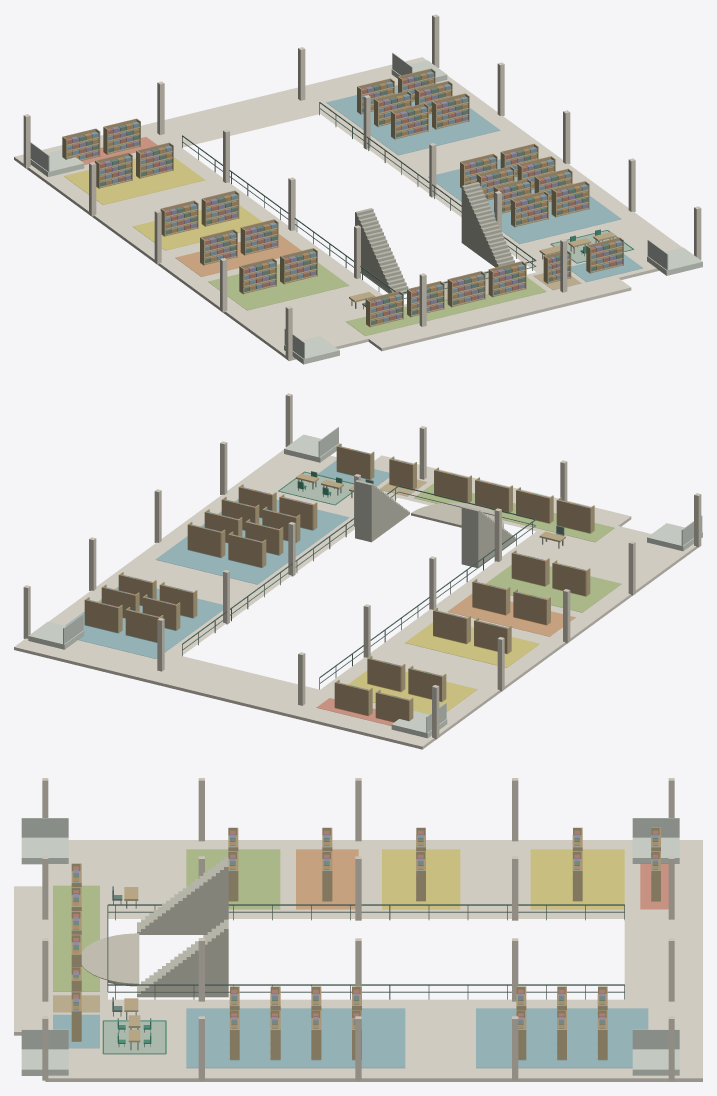
The model's file is 图书馆_2楼_试点常态.glb.
3 views of the same model, one above another, from view 1: azimuth 30°, elevation 25°; view 2: azimuth 150°, elevation 25°; view 3: azimuth 270°, elevation 25° (orthographic). The views are drawn at different scales.
Parts seen in each view (by area): view 1: guide_outline_floor_slab, guide_function_tint (×8), corner_service_room (×3); view 2: guide_outline_floor_slab, rack_back (×29), guide_function_tint (×8), corner_service_room (×4), central_stair_tread (×2), photo_guided_curved_landing, proposed_candidate_zone; view 3: guide_outline_floor_slab, guide_function_tint (×10), corner_service_room (×4), service_partition (×4), photo_guided_curved_landing, atrium_rail_top (×2), atrium_rail_lower (×2), proposed_candidate_zone.
Part boxes in pixels (left/top/right/bottom): guide_outline_floor_slab: left=14, top=57, right=682, bottom=360; guide_function_tint (×8): left=64, top=83, right=642, bottom=335; corner_service_room (×3): left=30, top=149, right=702, bottom=364; guide_outline_floor_slab: left=14, top=449, right=697, bottom=749; rack_back (×29): left=85, top=446, right=589, bottom=722; guide_function_tint (×8): left=65, top=460, right=621, bottom=714; corner_service_room (×4): left=28, top=434, right=702, bottom=738; central_stair_tread (×2): left=355, top=480, right=480, bottom=567; photo_guided_curved_landing: left=411, top=502, right=503, bottom=528; proposed_candidate_zone: left=280, top=472, right=353, bottom=503; guide_outline_floor_slab: left=14, top=840, right=702, bottom=1081; guide_function_tint (×10): left=53, top=849, right=668, bottom=1068; corner_service_room (×4): left=21, top=837, right=679, bottom=1075; service_partition (×4): left=21, top=818, right=679, bottom=1049; photo_guided_curved_landing: left=81, top=933, right=139, bottom=986; atrium_rail_top (×2): left=108, top=904, right=624, bottom=985; atrium_rail_lower (×2): left=108, top=911, right=624, bottom=992; proposed_candidate_zone: left=104, top=1021, right=164, bottom=1052.
Size of the model in its own units: 36.4 by 4.9 by 44.
